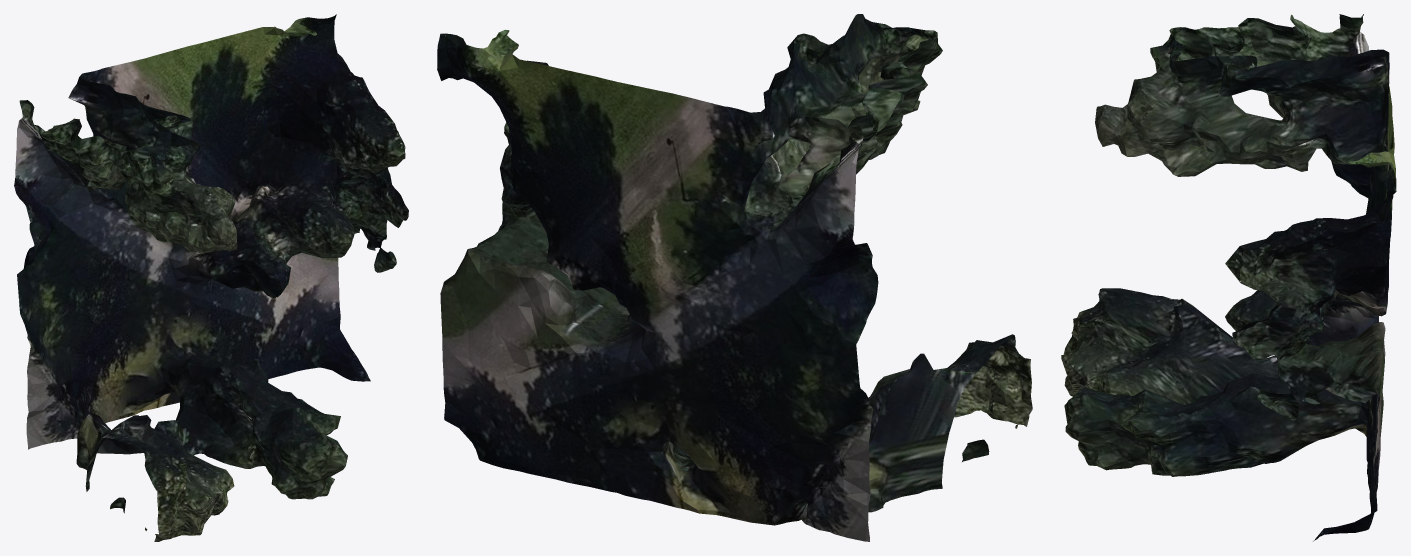
File: Tile_+031_+024_L20_0001200.obj
The picture shows the model from 3 angles, left to right: view 1: azimuth 30°, elevation 25°; view 2: azimuth 150°, elevation 25°; view 3: azimuth 270°, elevation 25°; orthographic projection. The views are drawn at different scales.
Size of the model in its own units: 31.5 by 31.5 by 26.56.
Materials: 1 (1 with a texture image).
